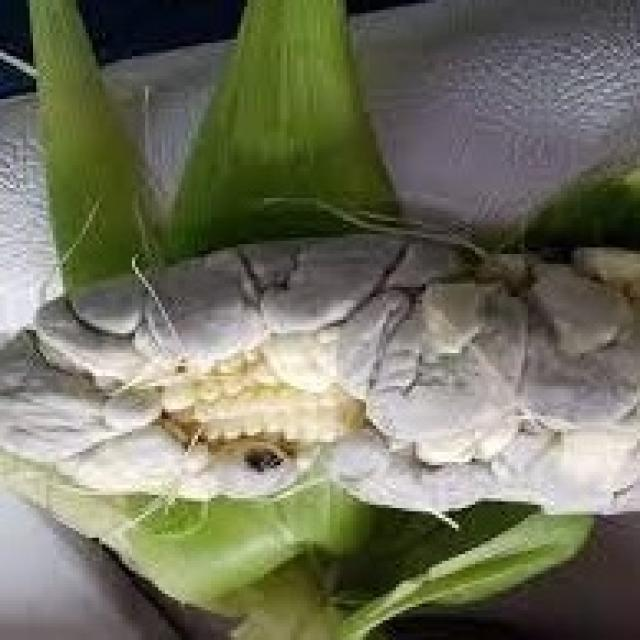Leaf_Scald: (0, 200, 640, 612)
